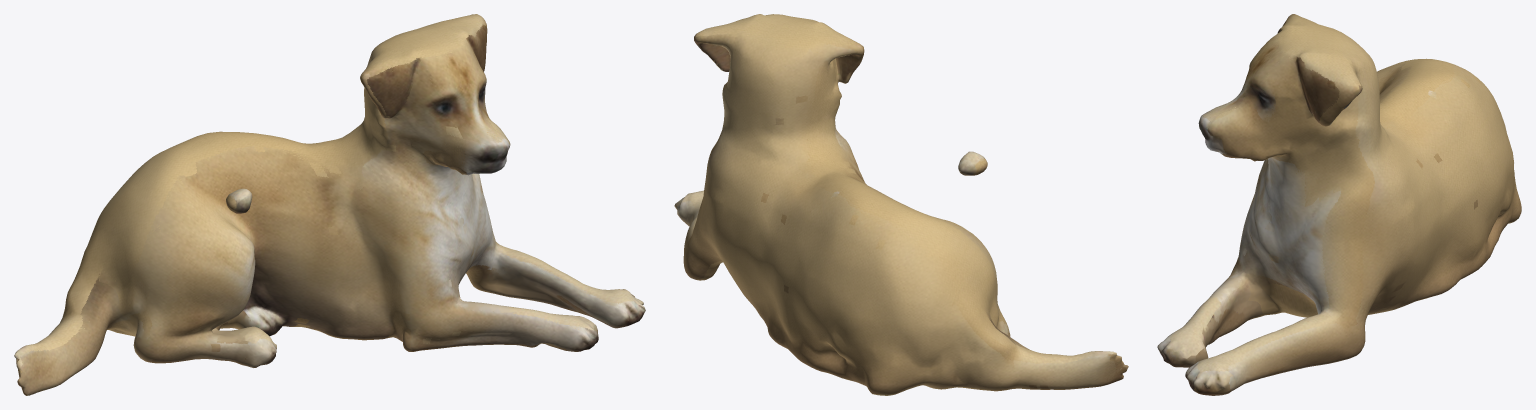
File: perro.glb
3 renders of one model, left to right at view 1: azimuth 30°, elevation 25°; view 2: azimuth 150°, elevation 25°; view 3: azimuth 270°, elevation 25°, orthographic. The views are drawn at different scales.
Parts seen in each view (by area): view 1: temp_mesh.ply; view 2: temp_mesh.ply; view 3: temp_mesh.ply.
Boxes of the visible parts, box(x1,y1,x2,y2) form: temp_mesh.ply: box(14, 14, 645, 395); temp_mesh.ply: box(674, 14, 1128, 395); temp_mesh.ply: box(1157, 14, 1521, 395).
Bounding box in the file's own units: 1 × 0.4893 × 0.5677.
1 material, 1 textured.
